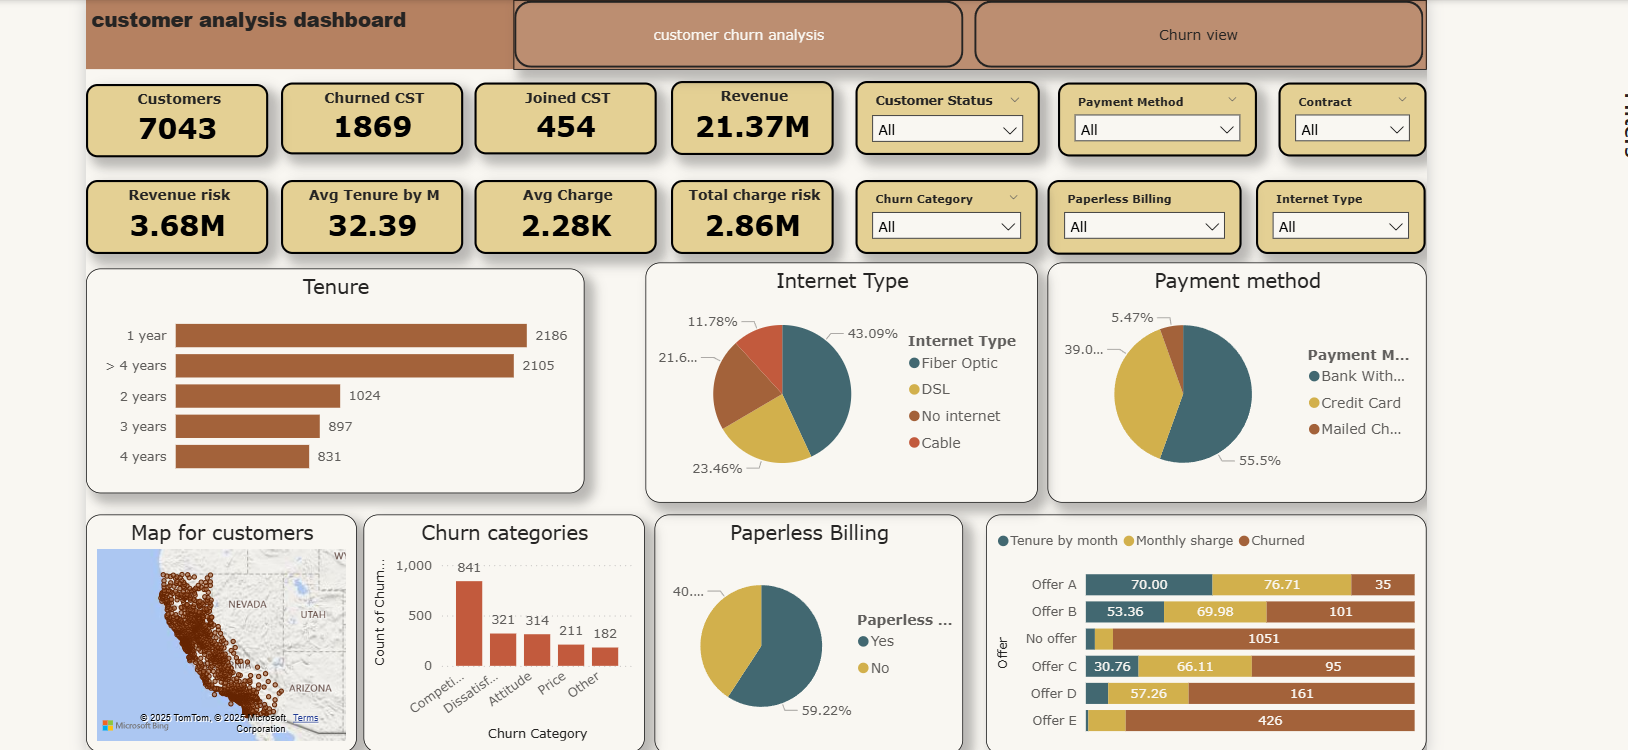

The page's visual inventory and layout, read from the dashboard file:
{"tool":"powerbi","page":{"name":"customer churn analysis","canvas":[1280,720],"ordinal":0},"visuals":[{"type":"map","title":"Map for customers","fields":{"Y":["customer churn.Latitude"],"X":["customer churn.Longitude"]},"box":[0,491,258.6,227.5],"z":0},{"type":"card","title":"Revenue","fields":{"Values":["Sum(customer churn.Total Revenue)"]},"box":[558.7,77.6,155.2,70.7],"z":1000},{"type":"textbox","box":[0,0,1280.5,66.3],"z":2000},{"type":"card","title":"Churned CST","fields":{"Values":["CountNonNull(customer churn.Churn Category)"]},"box":[186.2,79.3,174.2,69],"z":3000},{"type":"pageNavigator","box":[408.3,0,871.8,66.7],"z":4000},{"type":"hundredPercentStackedBarChart","fields":{"Category":["customer churn.Offer"],"Y":["Avg(customer churn.Tenure in Months)","Avg(customer churn.Monthly Charge)","customer churn.Count of Customer Status for Churned"]},"box":[859.3,491,420.7,229.2],"z":5000},{"type":"slicer","fields":{"Values":["customer churn.Internet Type"]},"box":[1117.3,172.4,162.1,70.7],"z":6000},{"type":"slicer","fields":{"Values":["customer churn.Payment Method"]},"box":[927.7,79.3,189.7,70.7],"z":7000},{"type":"slicer","fields":{"Values":["customer churn.Contract"]},"box":[1138,79.3,141.4,70.7],"z":8000},{"type":"slicer","fields":{"Values":["customer churn.Paperless Billing"]},"box":[917.7,172.3,185.5,71.2],"z":9000},{"type":"card","title":"Revenue risk","fields":{"Values":["Sum(customer churn.Total Revenue)"]},"box":[0,172.4,174.2,70.7],"z":10000},{"type":"card","title":"Customers","fields":{"Values":["Count(customer churn.Customer ID)"]},"box":[0,79.7,174,69.9],"z":11000},{"type":"card","title":"Joined CST","fields":{"Values":["CountNonNull(customer churn.Churn Category)"]},"box":[370.7,79.3,174.2,69],"z":12000},{"type":"card","title":"Avg Tenure by M","fields":{"Values":["Avg(customer churn.Tenure in Months)"]},"box":[186.2,172.4,174.2,70.7],"z":13000},{"type":"card","title":"Avg Charge","fields":{"Values":["Avg(customer churn.Total Charges)"]},"box":[370.7,172.4,174.2,70.7],"z":14000},{"type":"card","title":"Total charge risk","fields":{"Values":["Sum(customer churn.Total Charges)"]},"box":[558.7,172.4,155.2,70.7],"z":15000},{"type":"slicer","fields":{"Values":["customer churn.Churn Category"]},"box":[734.6,172.4,174.2,70.7],"z":16000},{"type":"pieChart","title":"Payment method","fields":{"Category":["customer churn.Payment Method"],"Y":["CountNonNull(customer churn.Payment Method)"]},"box":[918.3,250.4,361.7,229.2],"z":17000},{"type":"pieChart","title":"Paperless Billing","fields":{"Category":["customer churn.Paperless Billing"],"Y":["CountNonNull(customer churn.Paperless Billing)"]},"box":[543.4,491,294.6,229.2],"z":18000},{"type":"barChart","title":"Tenure","fields":{"Category":["customer churn.Tenure in Months (groups)"],"Y":["CountNonNull(customer churn.Tenure in Months (groups))"]},"box":[0,257,476.3,214.4],"z":19000},{"type":"slicer","fields":{"Values":["customer churn.Customer Status"]},"box":[734.6,77.6,175.9,70.7],"z":20000},{"type":"pieChart","title":"Internet Type","fields":{"Category":["customer churn.Internet Type"],"Y":["CountNonNull(customer churn.Internet Type)"]},"box":[533.6,250.4,374.8,229.2],"z":21000},{"type":"clusteredColumnChart","title":"Churn categories","fields":{"Category":["customer churn.Churn Category"],"Y":["CountNonNull(customer churn.Churn Category)"]},"box":[265.2,491,268.4,227.5],"z":22000}]}

Visuals, with their boxes in screenshot pixels (x1, y1, x2, y2):
"Map for customers" map: (102, 505, 368, 738)
"Revenue" card: (676, 80, 836, 152)
textbox: (102, 0, 1418, 68)
"Churned CST" card: (293, 82, 472, 152)
pageNavigator: (521, 0, 1417, 69)
hundredPercentStackedBarChart - customer churn.Offer x Avg(customer churn.Tenure in Months): (985, 505, 1417, 740)
slicer - customer churn.Internet Type: (1250, 177, 1417, 250)
slicer - customer churn.Payment Method: (1055, 82, 1250, 154)
slicer - customer churn.Contract: (1271, 82, 1417, 154)
slicer - customer churn.Paperless Billing: (1045, 177, 1236, 250)
"Revenue risk" card: (102, 177, 281, 250)
"Customers" card: (102, 82, 281, 154)
"Joined CST" card: (483, 82, 662, 152)
"Avg Tenure by M" card: (293, 177, 472, 250)
"Avg Charge" card: (483, 177, 662, 250)
"Total charge risk" card: (676, 177, 836, 250)
slicer - customer churn.Churn Category: (857, 177, 1036, 250)
"Payment method" pieChart: (1046, 257, 1417, 493)
"Paperless Billing" pieChart: (660, 505, 963, 740)
"Tenure" barChart: (102, 264, 591, 485)
slicer - customer churn.Customer Status: (857, 80, 1038, 152)
"Internet Type" pieChart: (650, 257, 1035, 493)
"Churn categories" clusteredColumnChart: (374, 505, 650, 738)
